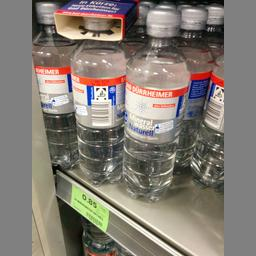water: (121, 7, 185, 202), (66, 8, 124, 185), (33, 1, 74, 169)
